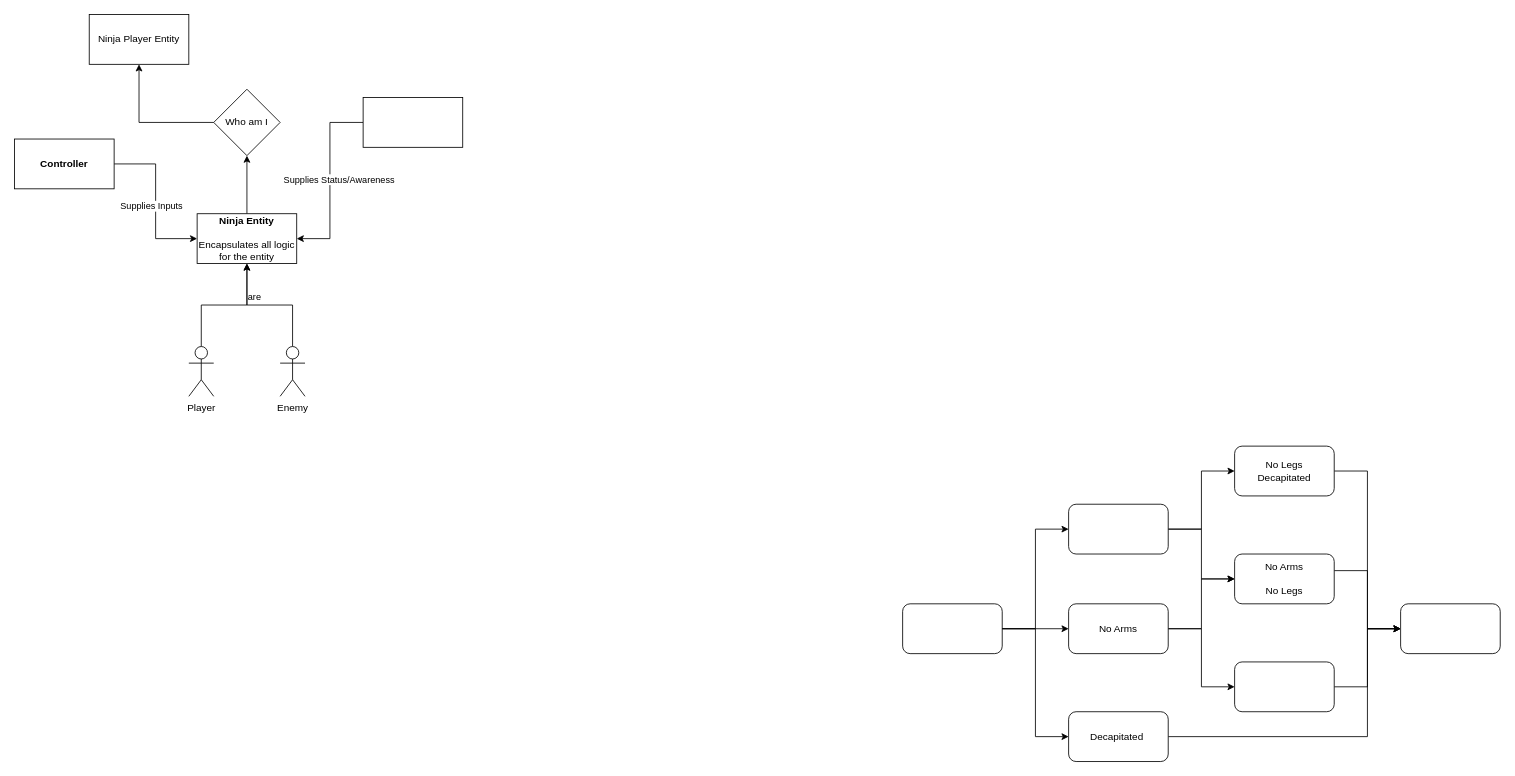
This 1515x776 diagram has some shape labels left out. Here are the shapes that lost their labels. From the top down, the centre of each, then its label:
At [412,122]: "State Machine".
At [1118,528]: "No Legs".
At [952,628]: "Intact".
At [1450,628]: "DEAD".
At [1284,686]: "No Arms Decapitated".
